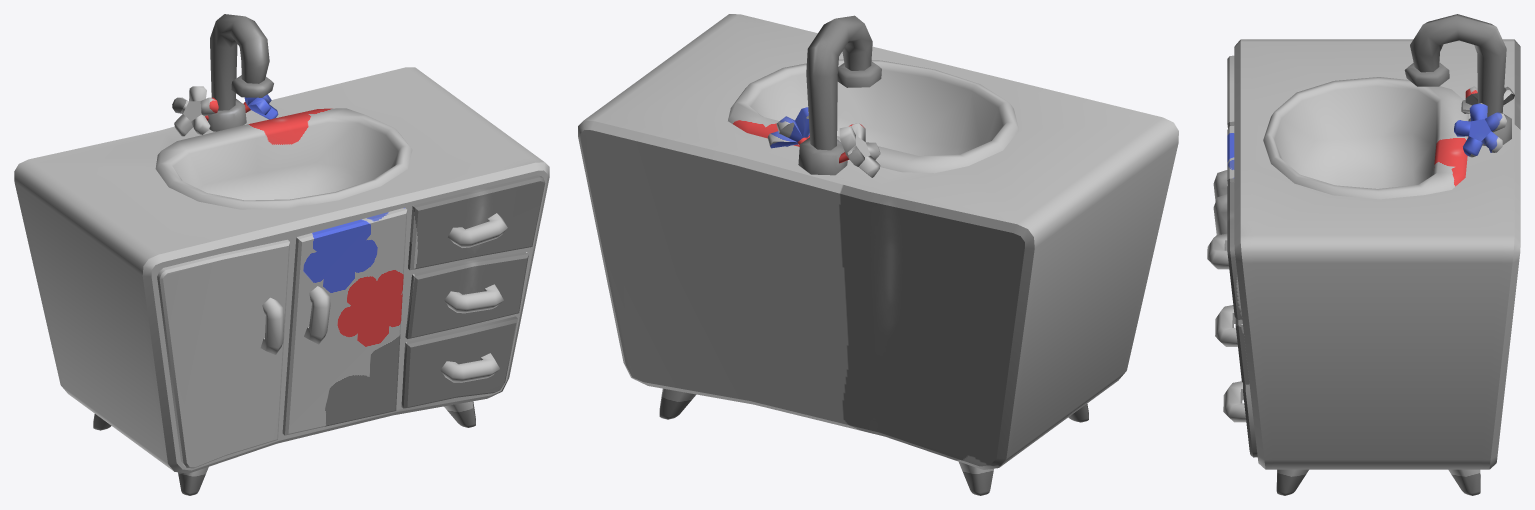
The model's file is CabinetSink.FBX.
3 views of the same model, side by side, from view 1: azimuth 30°, elevation 25°; view 2: azimuth 150°, elevation 25°; view 3: azimuth 270°, elevation 25° (orthographic). The views are drawn at different scales.
Visible parts, largest first — view 1: CabinetSink; view 2: CabinetSink; view 3: CabinetSink.
Part boxes in pixels (x1,y1,x2,y2): CabinetSink: [14, 14, 549, 495]; CabinetSink: [578, 14, 1178, 495]; CabinetSink: [1207, 14, 1520, 495].
Bounding box in the file's own units: 147 × 132 × 92.86.
